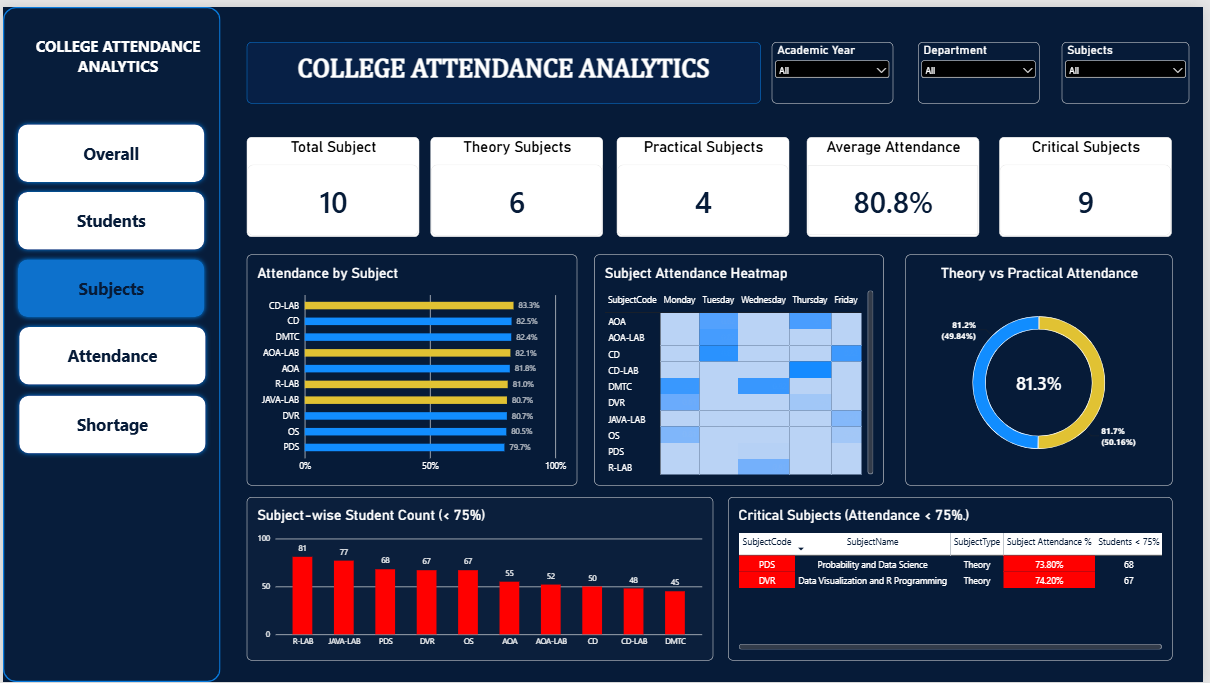

The page's visual inventory and layout, read from the dashboard file:
{"tool":"powerbi","page":{"name":"Subjects","canvas":[1920,1080],"ordinal":2},"visuals":[{"type":"cardVisual","title":"Total Subject","fields":{"Data":["FactAttendance.Total Subjects"]},"box":[390,208,276,160],"z":0},{"type":"shape","title":"Sidebar Background","box":[0,0,348,1080],"z":1000},{"type":"textbox","box":[390,56,822,98],"z":2000},{"type":"textbox","box":[10,10,348,412],"z":3000},{"type":"cardVisual","title":"Theory Subjects","fields":{"Data":["FactAttendance.Theory Subjects"]},"box":[684,208,276,160],"z":4000},{"type":"cardVisual","title":"Critical Subjects","fields":{"Data":["FactAttendance.Critical Subjects"]},"box":[1594,208,276,160],"z":5000},{"type":"clusteredBarChart","title":"Attendance by Subject","fields":{"Category":["FactAttendance.SubjectCode"],"Y":["FactAttendance.Overall Attendance %"]},"box":[390,396,528.8,369.2],"z":8000},{"type":"donutChart","title":"Theory vs Practical Attendance","fields":{"Category":["DimSubject.SubjectType"],"Y":["FactAttendance.Overall Attendance %"]},"box":[1444.2,396.2,426.9,369.2],"z":10000},{"type":"slicer","fields":{"Values":["DimStudent.AcademicYear"]},"box":[1230,56,194,98],"z":11000},{"type":"slicer","fields":{"Values":["DimStudent.Department"]},"box":[1464,56,194,98],"z":12000},{"type":"slicer","fields":{"Values":["DimStudent.Gender"]},"box":[1694,56,204,98],"z":13000},{"type":"actionButton","box":[16,180,314,108],"z":14000},{"type":"actionButton","box":[16,288,314,108],"z":15000},{"type":"actionButton","box":[16,396,314,108],"z":16000},{"type":"actionButton","box":[18,504,314,108],"z":17000},{"type":"actionButton","box":[18,614,314,108],"z":18000},{"type":"cardVisual","title":"Average Attendance","fields":{"Data":["AttendanceSummary.Average Attendance %"]},"box":[1286,208,276,160],"z":20000},{"type":"cardVisual","title":"Practical Subjects","fields":{"Data":["FactAttendance.Practical Subjects"]},"box":[982,208,276,160],"z":20001},{"type":"clusteredColumnChart","title":"Subject-wise Student Count (< 75%)","fields":{"Category":["DimSubject.SubjectCode"],"Y":["FactAttendance.Students Below 75% by Subject"]},"box":[390.4,784.6,746.2,261.5],"z":20002},{"type":"pivotTable","title":"Subject Attendance Heatmap","fields":{"Columns":["FactAttendance.DayName"],"Rows":["FactAttendance.SubjectCode"],"Values":["FactAttendance.Subject Attendance %"]},"box":[946.2,396.2,463.5,369.2],"z":20003},{"type":"tableEx","title":"Critical Subjects (Attendance < 75%.)","fields":{"Values":["FactAttendance.SubjectCode","FactAttendance.SubjectName","DimSubject.SubjectType","FactAttendance.Adjusted Subject Attendance %","FactAttendance.Students < 75%"]},"box":[1159.6,784.6,711.5,261.5],"z":20004}]}

Visuals, with their boxes in screenshot pixels (x1, y1, x2, y2), scaled from the page's 1920x1080 canvas onto the 1210x683 screenshot:
"Total Subject" cardVisual: box(246, 132, 420, 233)
"Sidebar Background" shape: box(0, 0, 219, 682)
textbox: box(246, 35, 764, 97)
textbox: box(6, 6, 226, 267)
"Theory Subjects" cardVisual: box(431, 132, 605, 233)
"Critical Subjects" cardVisual: box(1005, 132, 1178, 233)
"Attendance by Subject" clusteredBarChart: box(246, 250, 579, 484)
"Theory vs Practical Attendance" donutChart: box(910, 251, 1179, 484)
slicer - DimStudent.AcademicYear: box(775, 35, 897, 97)
slicer - DimStudent.Department: box(923, 35, 1045, 97)
slicer - DimStudent.Gender: box(1068, 35, 1196, 97)
actionButton: box(10, 114, 208, 182)
actionButton: box(10, 182, 208, 250)
actionButton: box(10, 250, 208, 319)
actionButton: box(11, 319, 209, 387)
actionButton: box(11, 388, 209, 457)
"Average Attendance" cardVisual: box(810, 132, 984, 233)
"Practical Subjects" cardVisual: box(619, 132, 793, 233)
"Subject-wise Student Count (< 75%)" clusteredColumnChart: box(246, 496, 716, 662)
"Subject Attendance Heatmap" pivotTable: box(596, 251, 888, 484)
"Critical Subjects (Attendance < 75%.)" tableEx: box(731, 496, 1179, 662)
